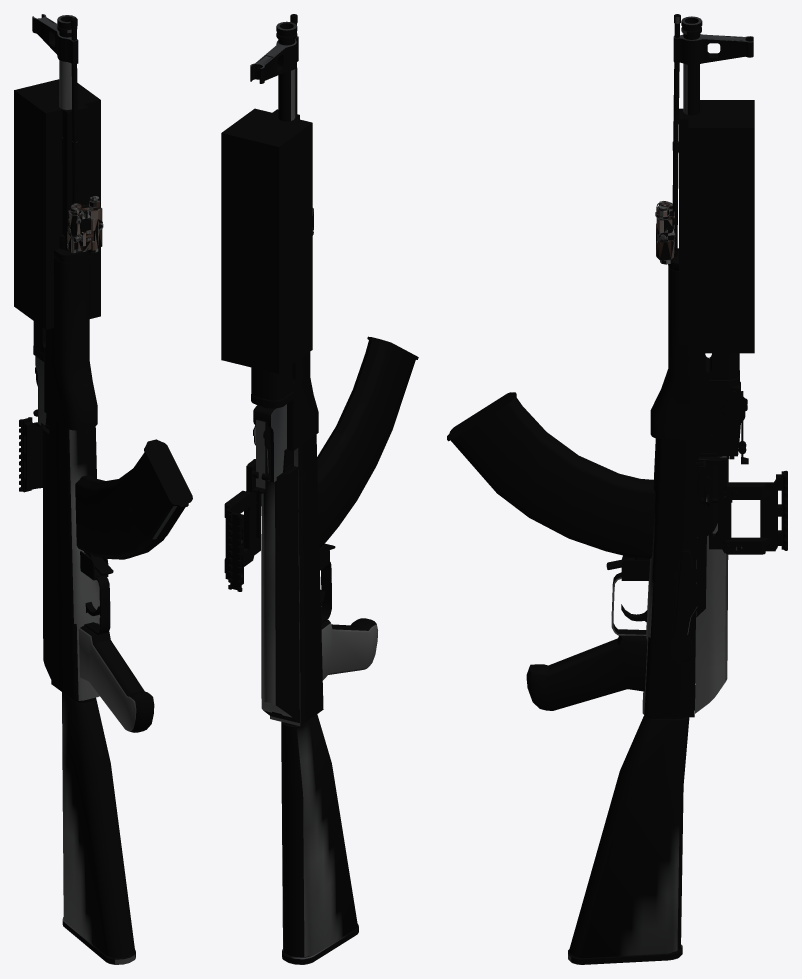
File: AK47__Handguard_AK_Quad__Laser_Pistol__Mount_AK_SideRail.fbx
3 views of the same model, side by side, from view 1: azimuth 30°, elevation 25°; view 2: azimuth 150°, elevation 25°; view 3: azimuth 270°, elevation 25° (orthographic). The views are drawn at different scales.
Parts seen in each view (by area): view 1: asset_AK47.001; view 2: asset_AK47.001; view 3: asset_AK47.001.
Boxes of the visible parts, <box> form: asset_AK47.001: <box>14,14,192,964</box>; asset_AK47.001: <box>221,14,418,964</box>; asset_AK47.001: <box>447,14,787,964</box>.
Size of the model in its own units: 0.0336 by 0.528 by 0.173.
